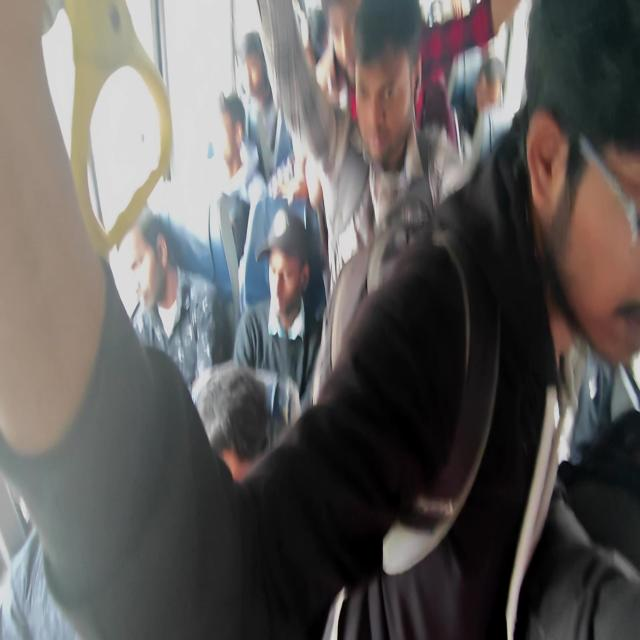person: (534, 29, 640, 357), (198, 379, 268, 520), (358, 24, 422, 168), (9, 518, 55, 624), (120, 215, 170, 309), (329, 6, 367, 104), (273, 216, 309, 315), (283, 138, 323, 205), (234, 28, 272, 96), (208, 109, 246, 176), (482, 75, 512, 114)
